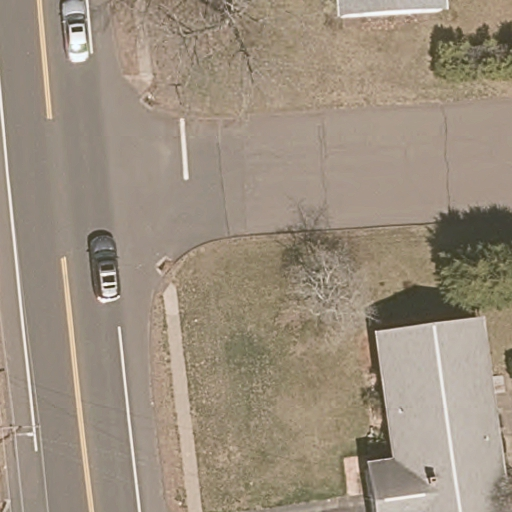DT: (1, 421, 41, 452)
